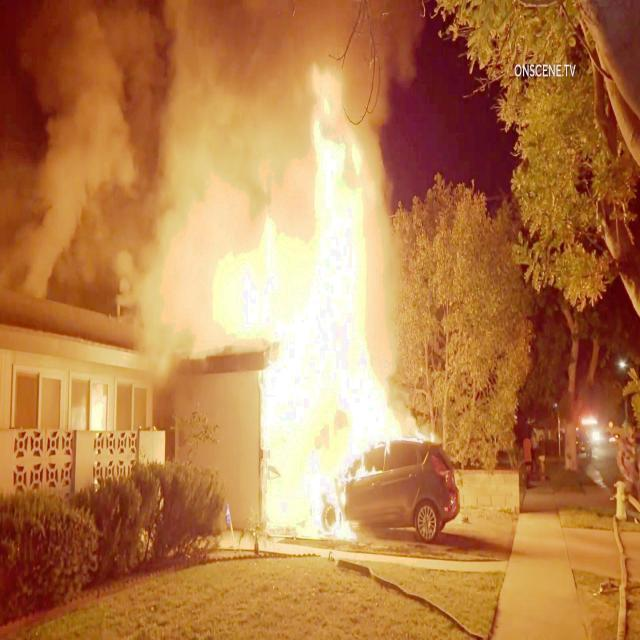Fire: (265, 103, 386, 530), (228, 188, 298, 330)
Smoke: (4, 3, 220, 318), (0, 0, 262, 183), (222, 3, 417, 89)
